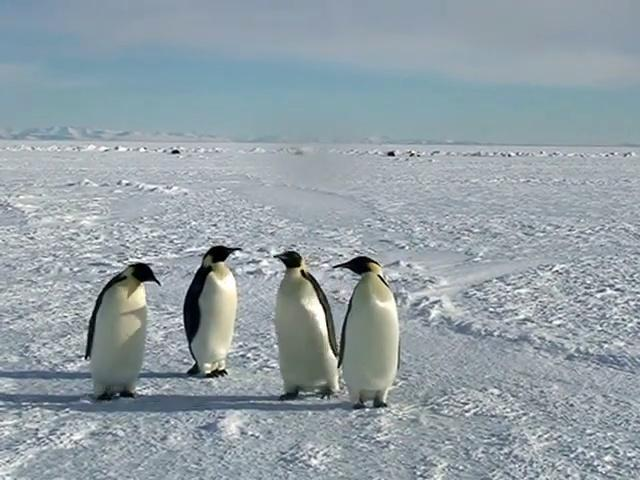animal: (334, 256, 398, 408)
